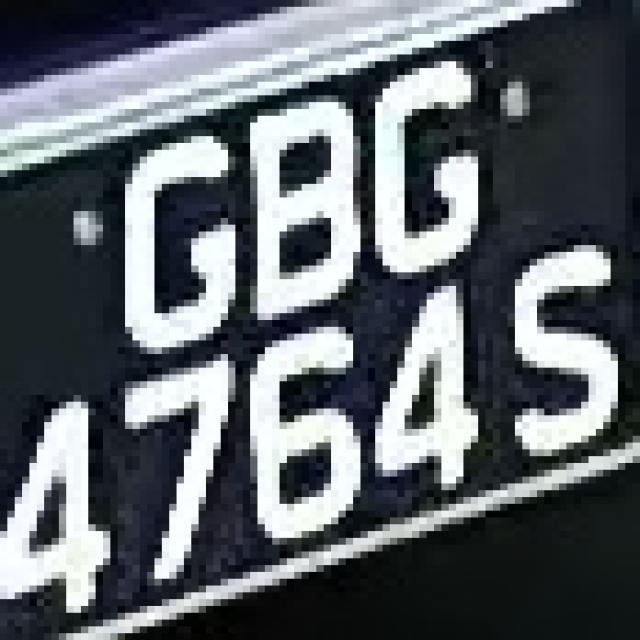4: (353, 266, 500, 497), (0, 4, 2, 7)
6: (235, 300, 398, 558)
7: (96, 354, 228, 599)
B: (220, 75, 382, 320)
G: (360, 34, 515, 279), (103, 116, 243, 347)
S: (478, 218, 633, 483)
